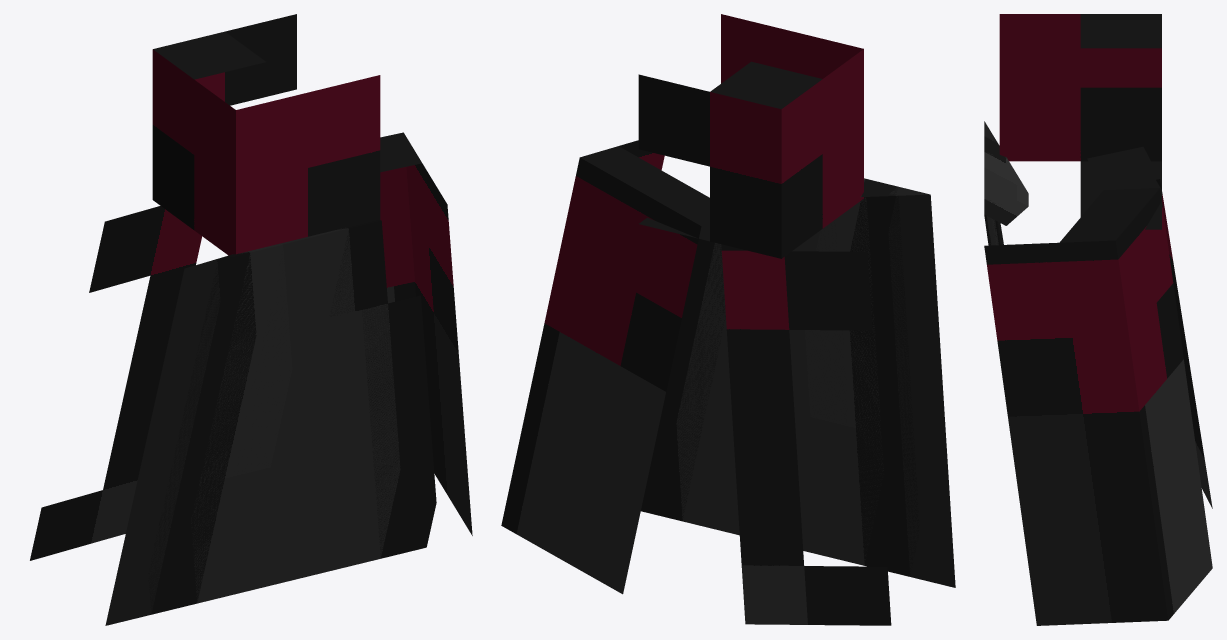
The model's file is vampire_cloak.obj.
3 views of the same model, side by side, from view 1: azimuth 30°, elevation 25°; view 2: azimuth 150°, elevation 25°; view 3: azimuth 270°, elevation 25° (orthographic). The views are drawn at different scales.
Parts seen in each view (by area): view 1: head_cube; view 2: head_cube; view 3: head_cube.
Part boxes in pixels (<box>): head_cube: <box>30,14,472,625</box>; head_cube: <box>501,14,955,625</box>; head_cube: <box>984,14,1212,625</box>.
Size of the model in its own units: 1.53 by 1.77 by 0.7478.
